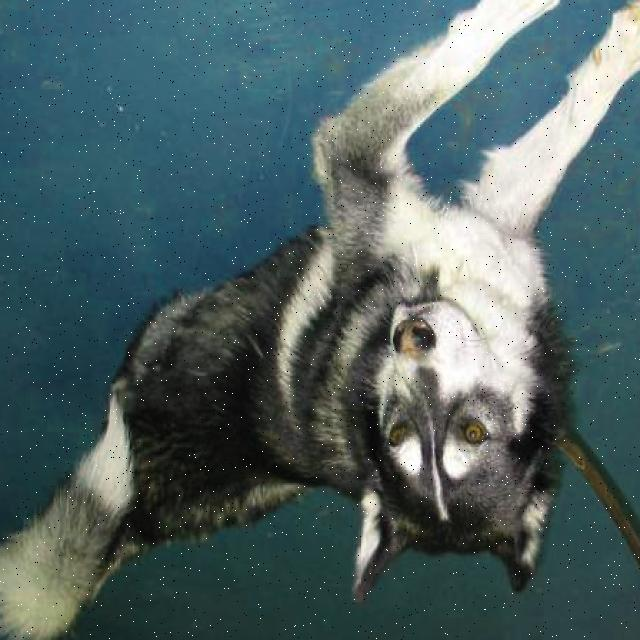Dog: (342, 278, 551, 624)
